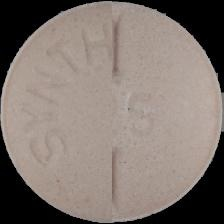54868-2638: (0, 0, 224, 224)
